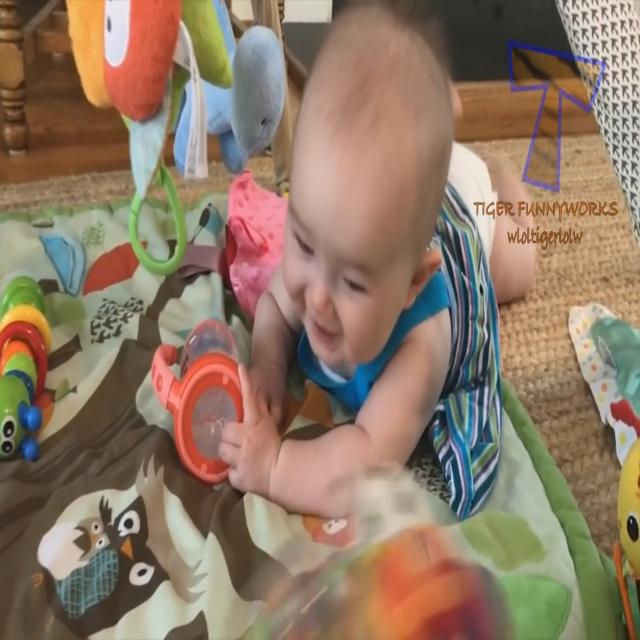dangerous: (230, 2, 520, 512)
